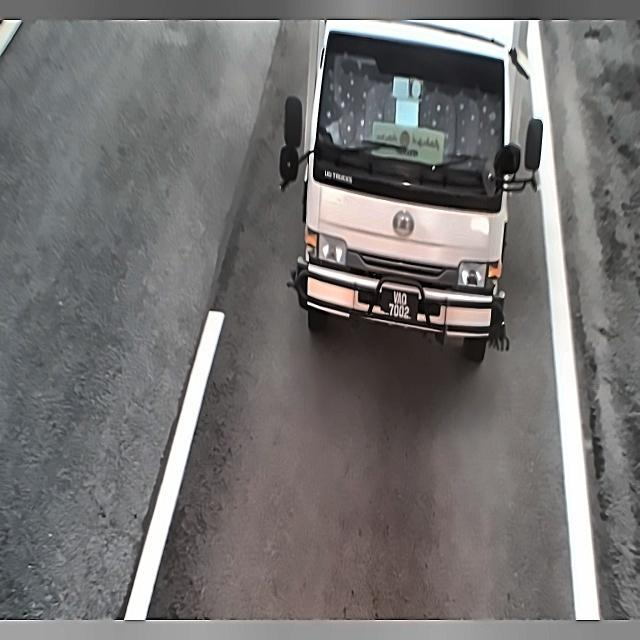car: (381, 287, 419, 331)
